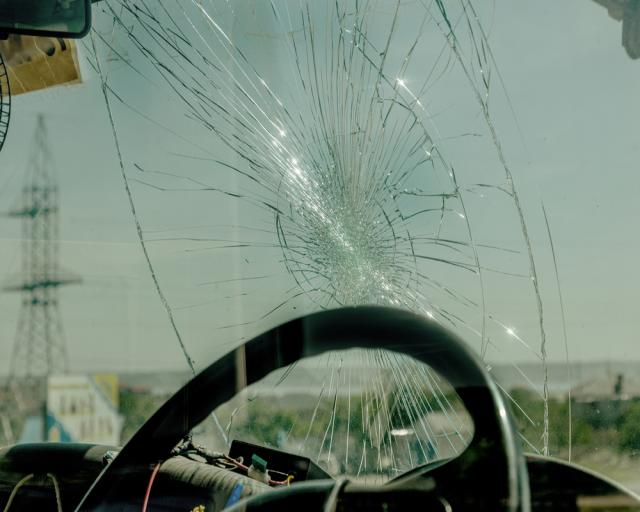glass shatter: (0, 0, 640, 498)
